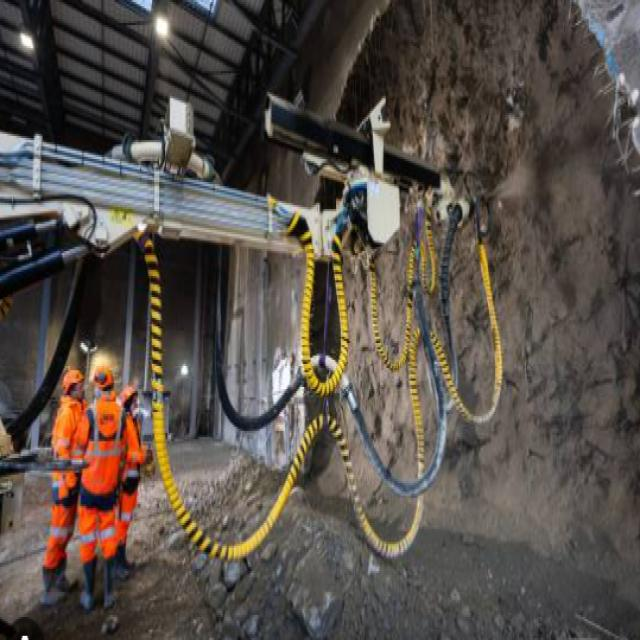hard_hat: (61, 368, 87, 404), (91, 362, 117, 396), (120, 381, 141, 416)
shoes: (78, 552, 121, 615), (38, 561, 79, 609), (113, 539, 138, 583)
vest: (72, 392, 150, 512), (50, 395, 91, 507), (111, 406, 149, 498)
